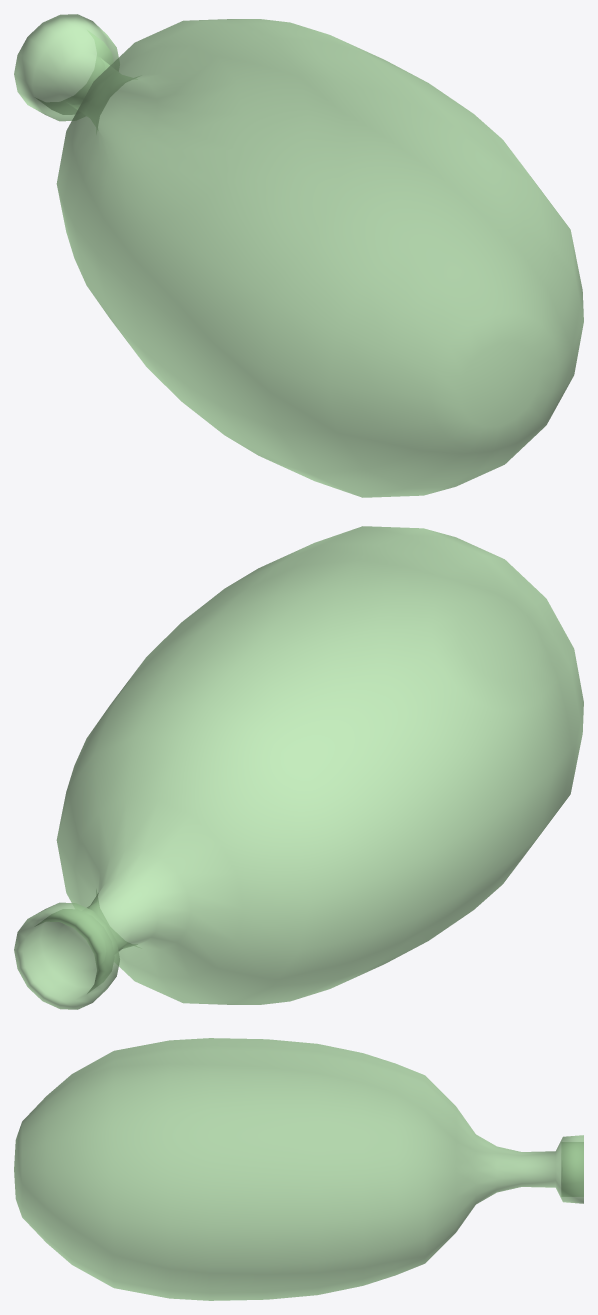
The model's file is Bottle_Green.glb.
The picture shows the model from 3 angles, top to bottom: view 1: azimuth 30°, elevation 25°; view 2: azimuth 150°, elevation 25°; view 3: azimuth 270°, elevation 25°; orthographic projection. The views are drawn at different scales.
Visible parts, largest first — view 1: Bottle_Green; view 2: Bottle_Green; view 3: Bottle_Green.
Part boxes in pixels (<box>): Bottle_Green: <box>14,14,583,497</box>; Bottle_Green: <box>14,526,583,1009</box>; Bottle_Green: <box>14,1038,583,1300</box>.
Bounding box in the file's own units: 0.32 × 0.32 × 0.6933.
